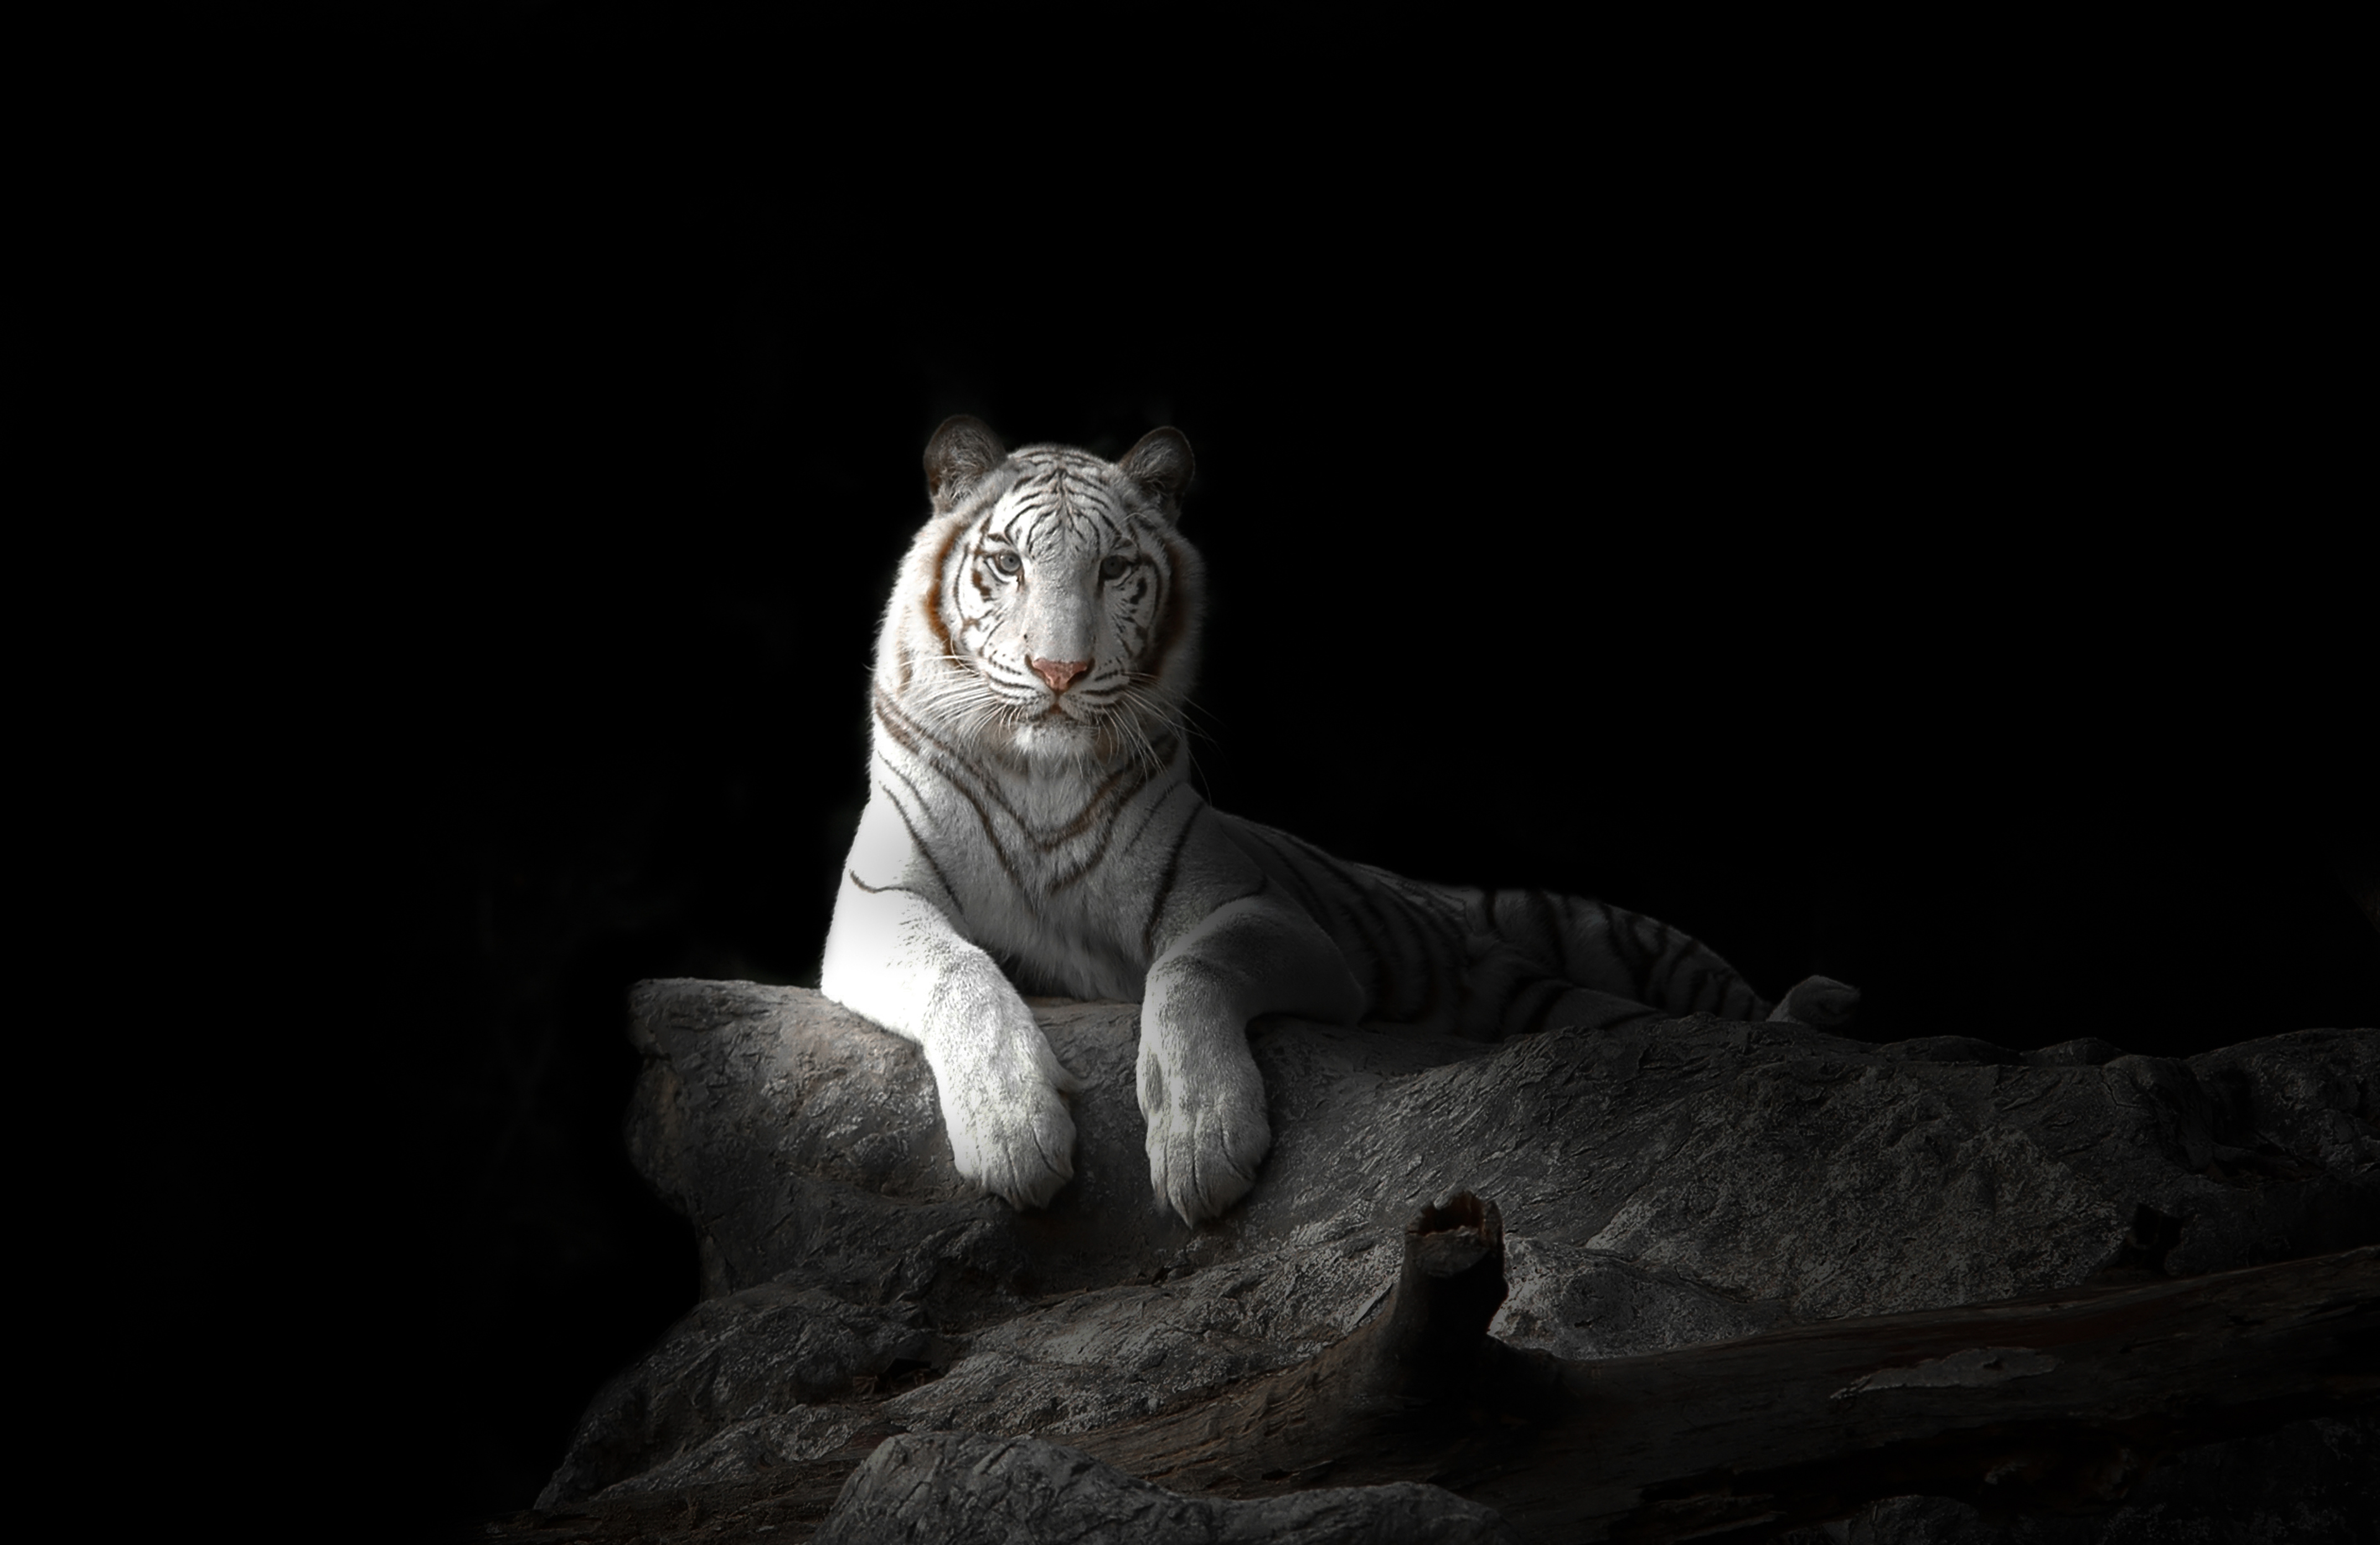tiger: (786, 387, 1976, 1201)
